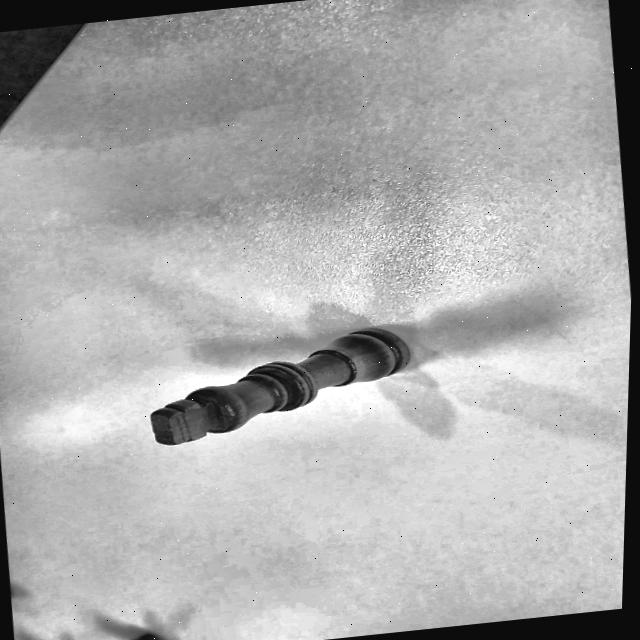black-king: (132, 314, 443, 458)
